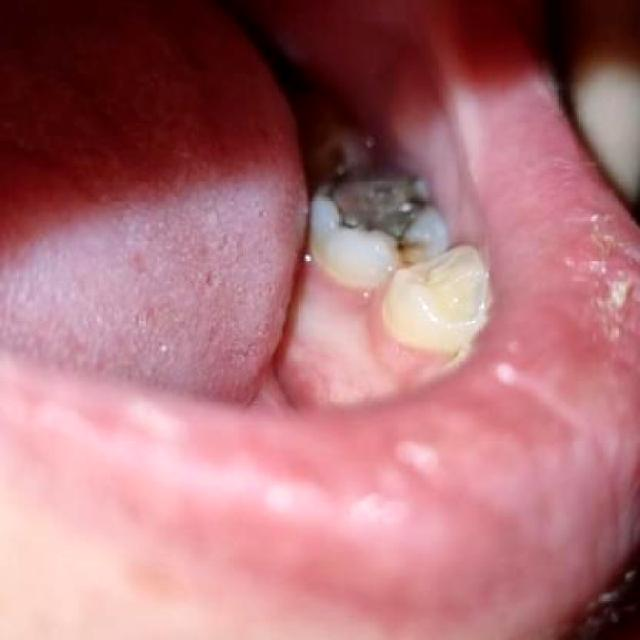Plaque: (381, 232, 425, 262)
